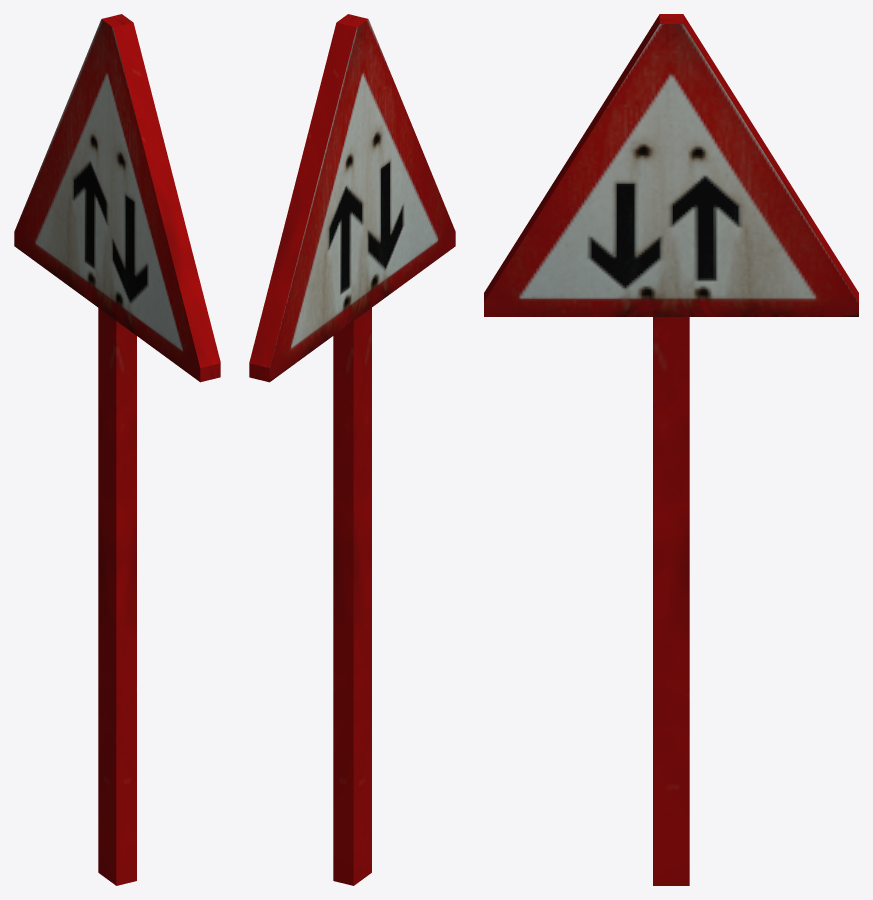
Rendered from sign17.FBX.
3 renders of one model, left to right at view 1: azimuth 30°, elevation 25°; view 2: azimuth 150°, elevation 25°; view 3: azimuth 270°, elevation 25°, orthographic.
Visible parts, largest first — view 1: Box001; view 2: Box001; view 3: Box001.
Boxes of the visible parts, left/top/right/bottom form: Box001: left=14, top=14, right=220, bottom=885; Box001: left=249, top=14, right=455, bottom=885; Box001: left=484, top=14, right=858, bottom=885.
Bounding box in the file's own units: 0.5849 × 23.36 × 9.2.
